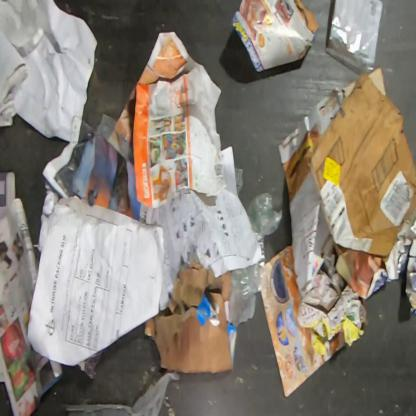cardboard: (310, 66, 416, 262), (144, 255, 238, 374), (334, 204, 415, 317)
soft_plastic: (228, 192, 284, 327), (61, 370, 181, 415), (325, 0, 384, 76)
